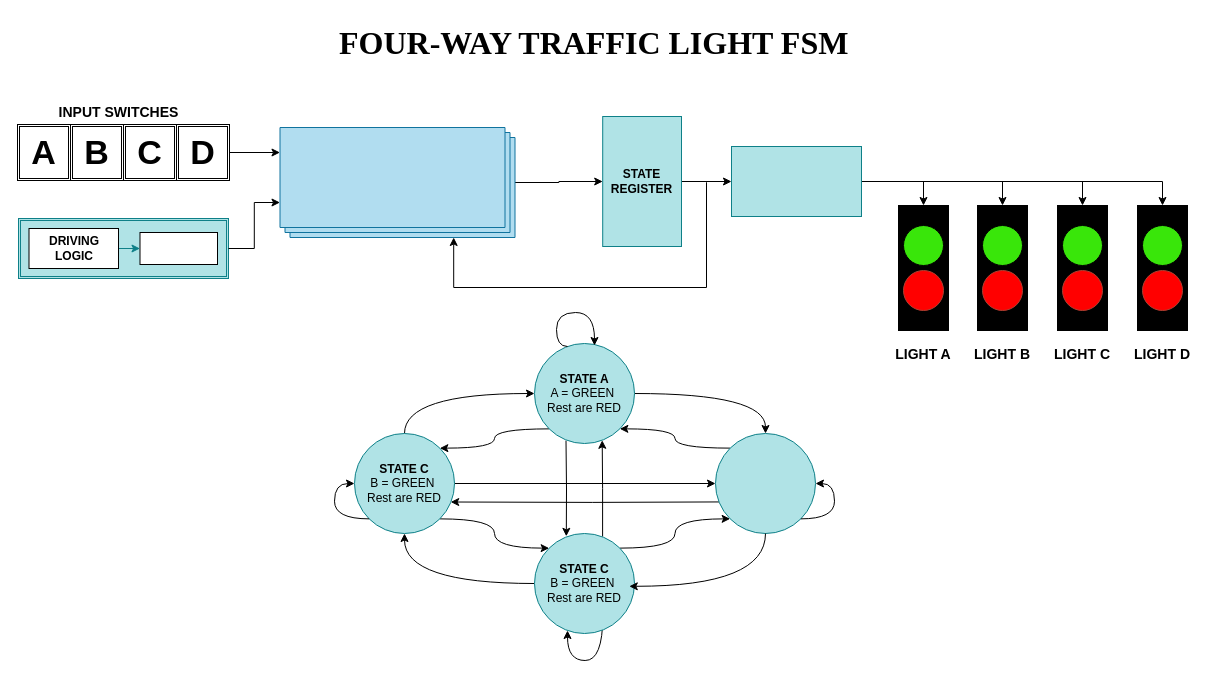
This 1210x678 diagram has some shape labels left out. The centre of each missing label's shape, as x and y in pixels:
"COUNTER" goes at (x=178, y=248).
"NEXT STATE LOGIC" goes at (x=397, y=182).
"OUTPUT LOGIC" goes at (x=796, y=181).
"STATE B B = GREEN Rest are RED" goes at (x=765, y=483).
